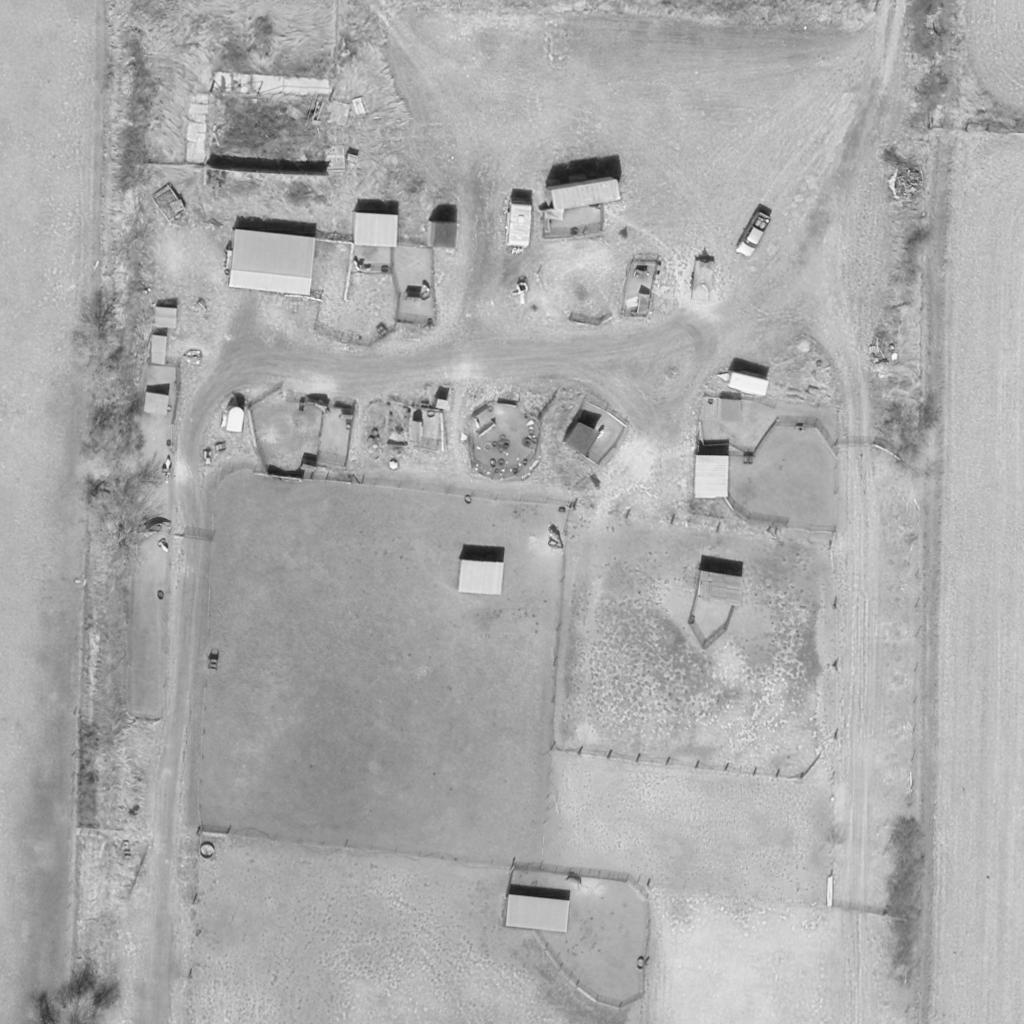vehicle: (548, 179, 624, 211), (737, 210, 773, 260), (723, 369, 775, 401), (508, 200, 532, 250)
